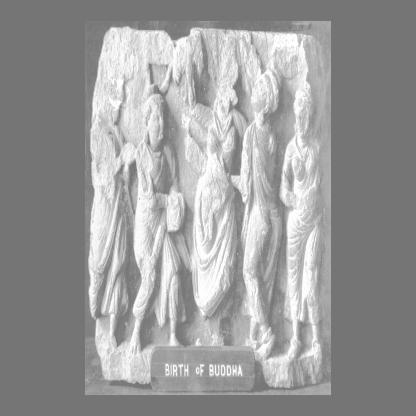buddha-standing: (173, 31, 245, 320)
